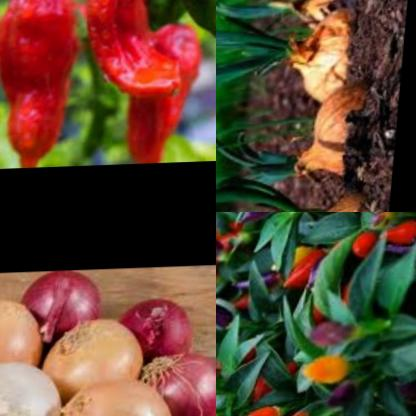hot pepper: (0, 0, 94, 168), (74, 0, 205, 113), (152, 0, 216, 51), (273, 246, 326, 301), (299, 353, 360, 391), (371, 217, 416, 250), (323, 381, 365, 416), (216, 212, 233, 294), (349, 227, 381, 269), (216, 293, 244, 339), (270, 403, 345, 416), (231, 212, 279, 232), (240, 403, 289, 416), (357, 212, 412, 220)
onion: (48, 313, 162, 405), (292, 82, 373, 188), (13, 270, 107, 345), (284, 10, 361, 100), (114, 289, 202, 361), (53, 373, 184, 416), (135, 348, 216, 416), (0, 292, 52, 376), (0, 359, 75, 416), (275, 180, 387, 212)
